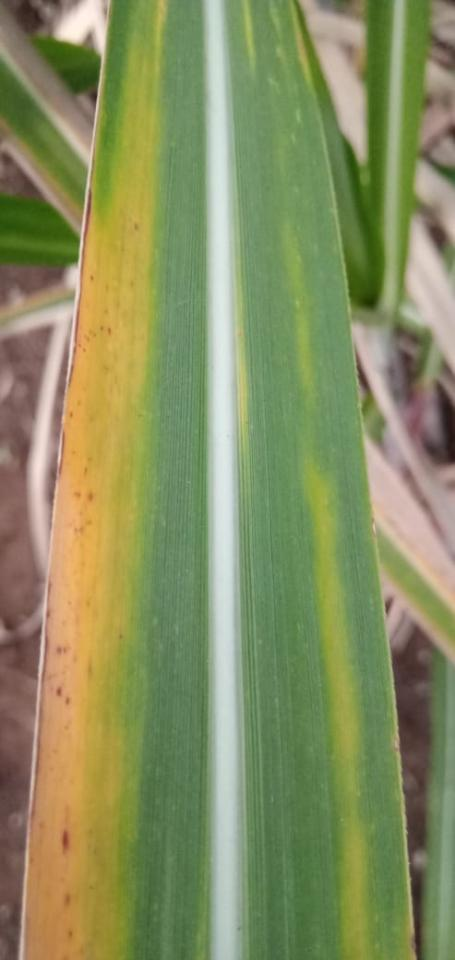Rust: (72, 519, 92, 533), (62, 830, 70, 853), (55, 646, 68, 655), (63, 893, 71, 906), (87, 658, 92, 677), (86, 491, 93, 504), (56, 685, 63, 697), (72, 490, 81, 499), (65, 804, 69, 824), (68, 929, 74, 938), (107, 326, 112, 336), (39, 821, 44, 830), (28, 856, 33, 865), (79, 944, 83, 955), (65, 695, 69, 706), (84, 465, 88, 476), (134, 223, 139, 231), (70, 411, 74, 420), (89, 275, 94, 282), (77, 343, 82, 348), (82, 348, 86, 353), (100, 325, 103, 331)
Yellow: (19, 0, 170, 959), (299, 448, 376, 959), (282, 236, 314, 411), (291, 0, 313, 89), (395, 914, 416, 959), (242, 0, 254, 69)
